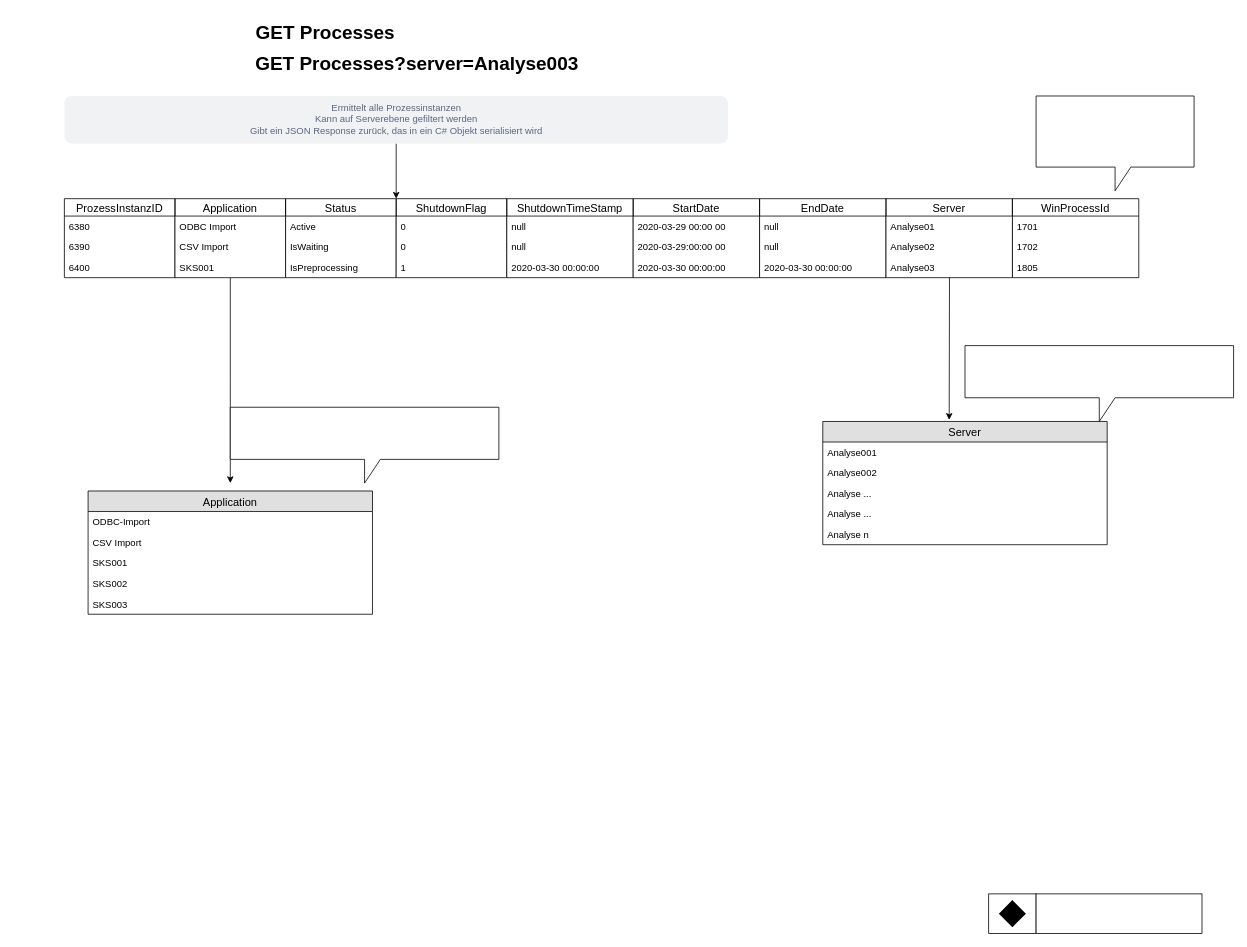
Some shapes in this 1247 by 947 pixel diagram are drawn without their labels. Each missing label, with the centre of its shape:
"Alle Anwendungen werden zentral in einer Tabelle gespeichert" goes at pixel 364 444.
"Alle Server werden zentral in einer Tabelle gespeichert" goes at pixel 1099 383.
"Relation 8" goes at pixel 1118 913.
"Über die Windows PID kann der Process gekillt werden" goes at pixel 1114 143.
